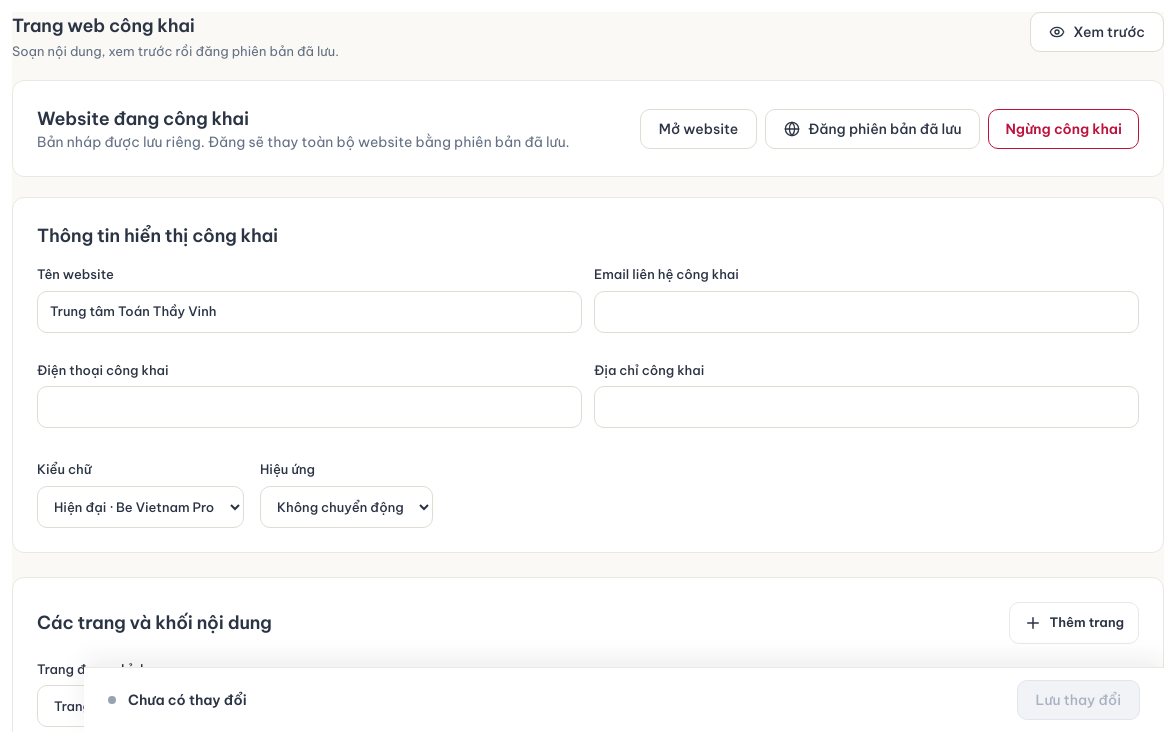
Scenario: confirms unpublishing and sends the unpublish operation
Click the button "Ngừng công khai".
click(1064, 128)  # box x1=988 y1=108 x2=1139 y2=148
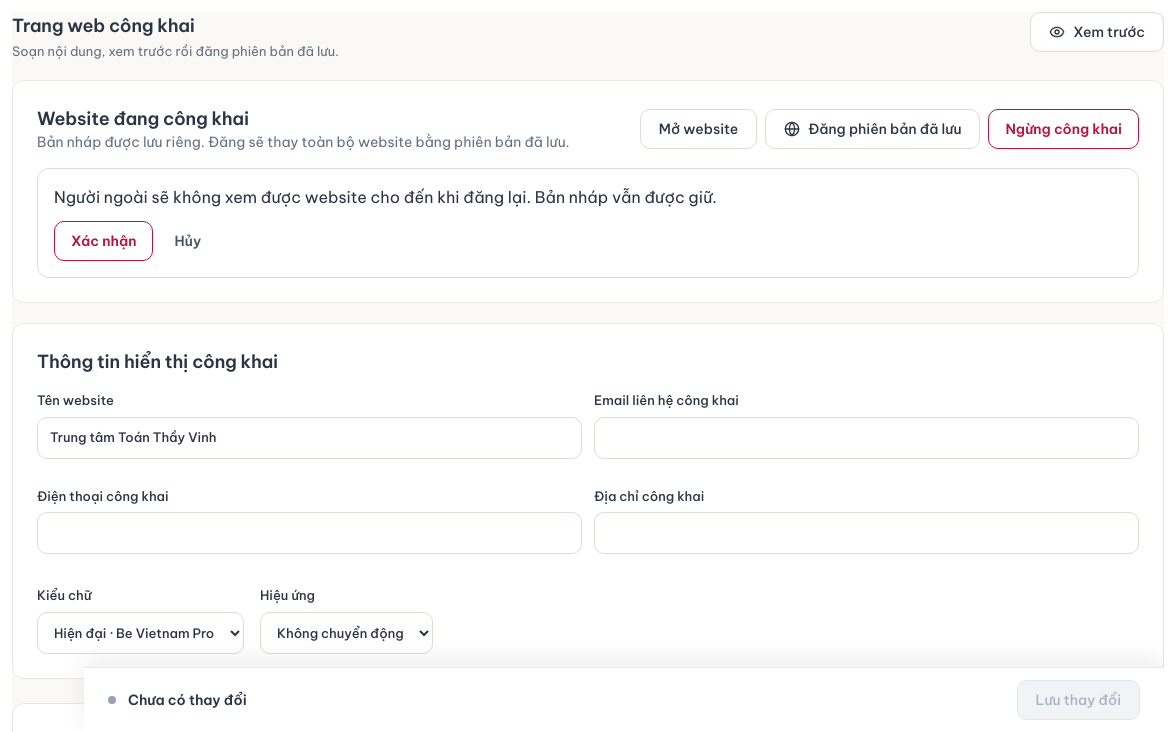
Click the button "Xác nhận".
click(104, 241)  # box x1=54 y1=221 x2=153 y2=261
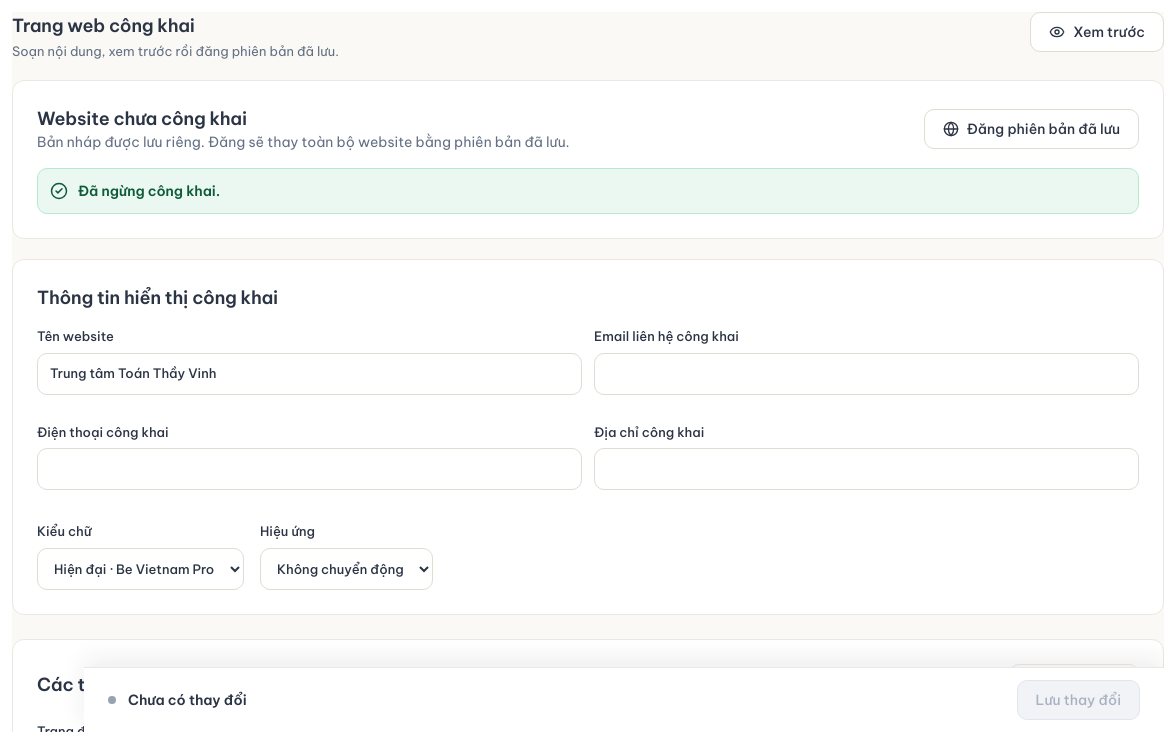
Check: the heading "Website chưa công khai" is shown, box x1=37 y1=107 x2=247 y2=130
